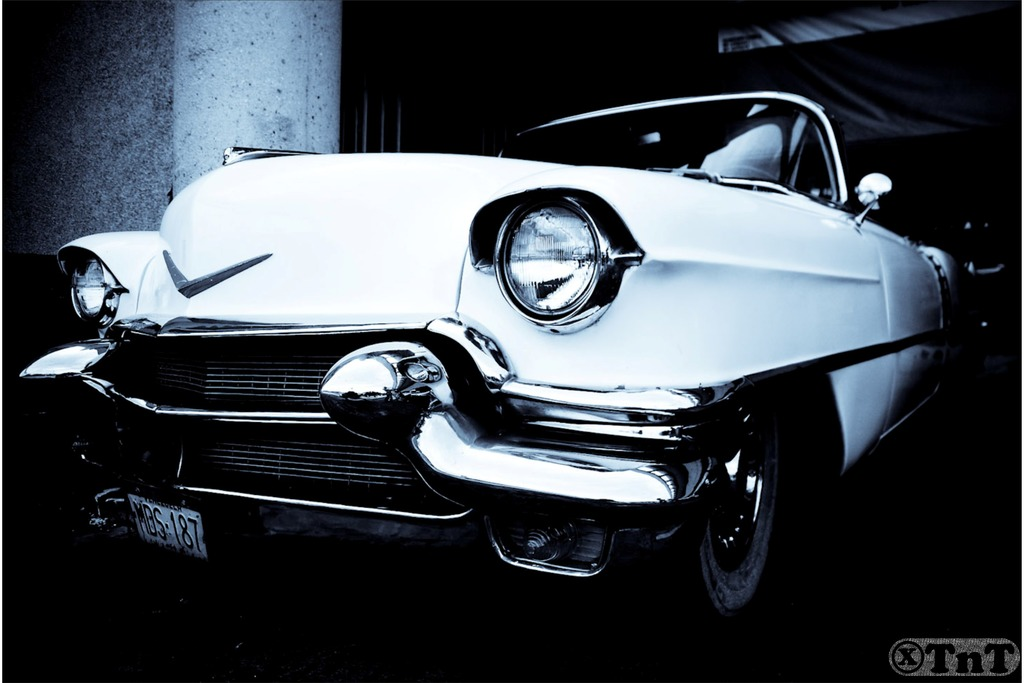Car: (3, 83, 968, 629)
